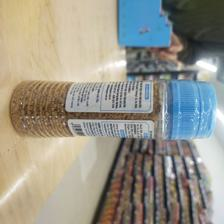TayNinh_blue: (8, 77, 221, 142)
